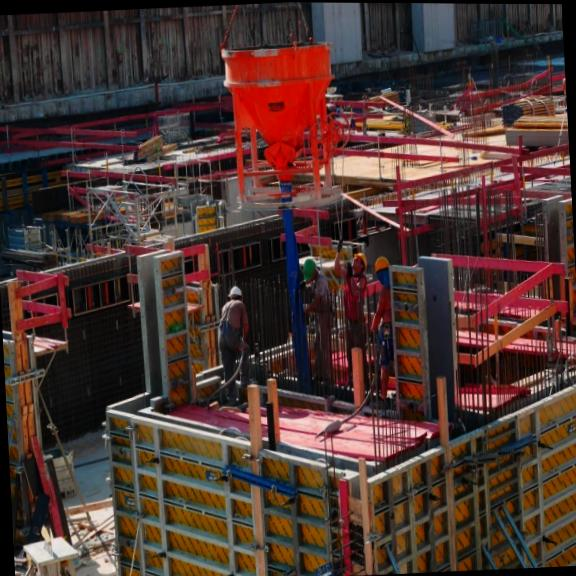no_safety_vest: (212, 297, 250, 342), (370, 280, 400, 335), (342, 267, 370, 324), (306, 268, 334, 323)
